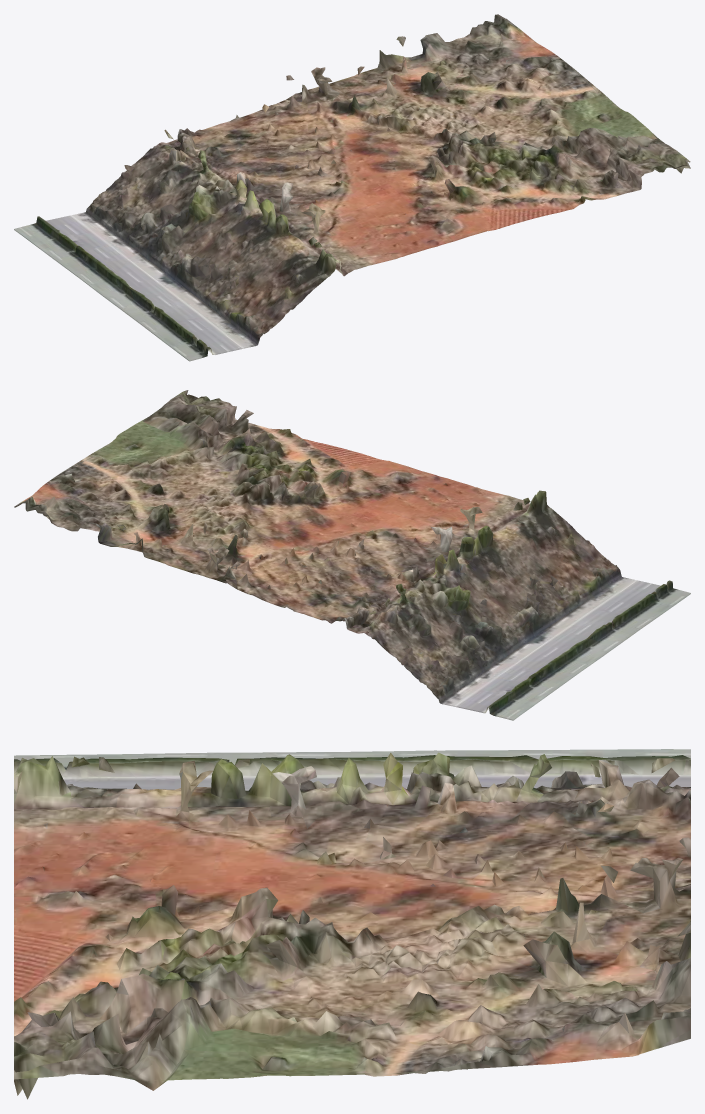
The model's file is BlockBY_L17_27.glb.
The picture shows the model from 3 angles, top to bottom: view 1: azimuth 30°, elevation 25°; view 2: azimuth 150°, elevation 25°; view 3: azimuth 270°, elevation 25°; orthographic projection. The views are drawn at different scales.
Visible parts, largest first — view 1: rtc; view 2: rtc; view 3: rtc.
Part boxes in pixels (x1=…): rtc: x1=14, y1=14, x2=690, y2=361; rtc: x1=14, y1=390, x2=690, y2=720; rtc: x1=14, y1=749, x2=690, y2=1099.
Size of the model in its own units: 137 by 27.2 by 82.7.
Materials: 2 (2 with a texture image).
